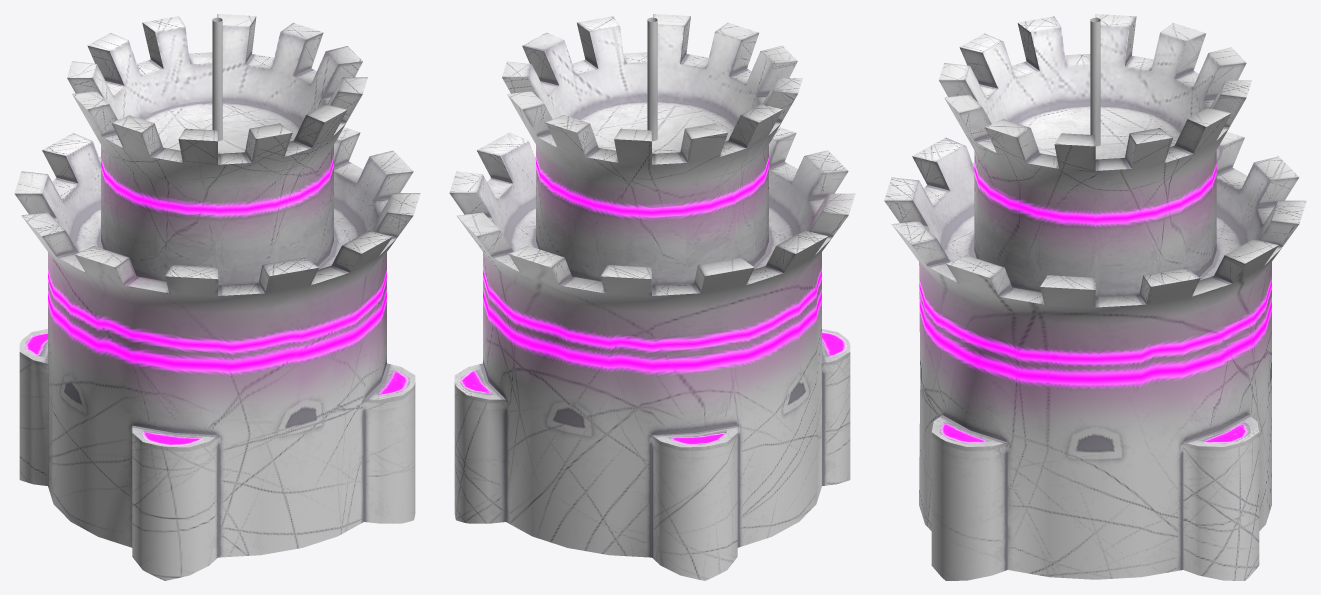
The model's file is torre balista.fbx.
3 renders of one model, left to right at view 1: azimuth 30°, elevation 25°; view 2: azimuth 150°, elevation 25°; view 3: azimuth 270°, elevation 25°, orthographic. The views are drawn at different scales.
Visible parts, largest first — view 1: torre balista; view 2: torre balista; view 3: torre balista.
Boxes of the visible parts, x1,y1,x2,y2 form: torre balista: [14, 14, 420, 580]; torre balista: [449, 14, 855, 580]; torre balista: [884, 14, 1306, 580].
Bounding box in the file's own units: 923 × 1198 × 923.
